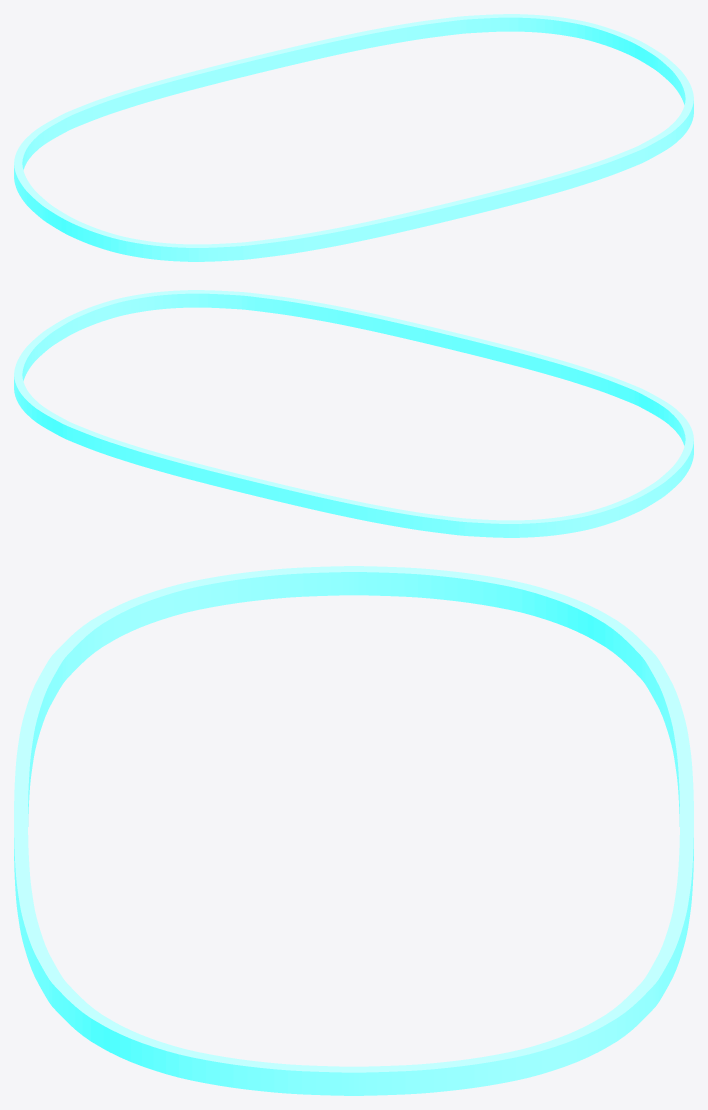
The model's file is mesh_Galaxy_WallCollider.fbx.
The picture shows the model from 3 angles, top to bottom: view 1: azimuth 30°, elevation 25°; view 2: azimuth 150°, elevation 25°; view 3: azimuth 270°, elevation 25°; orthographic projection. The views are drawn at different scales.
Visible parts, largest first — view 1: mesh_SplineWall__Top, mesh_SplineWall__Bottom, mesh_SplineWall__Right, mesh_SplineWall__Left, mesh_SplineWall_HD, mesh_SplineWall__BG, mesh_SplineWall_HG, mesh_SplineWall__BD; view 2: mesh_SplineWall__Bottom, mesh_SplineWall__Top, mesh_SplineWall__Right, mesh_SplineWall__Left, mesh_SplineWall__BD, mesh_SplineWall_HG, mesh_SplineWall__BG, mesh_SplineWall_HD; view 3: mesh_SplineWall__Left, mesh_SplineWall__Right, mesh_SplineWall__Top, mesh_SplineWall__Bottom, mesh_SplineWall_HG, mesh_SplineWall__BG, mesh_SplineWall_HD, mesh_SplineWall__BD.
Part boxes in pixels (x1=…): mesh_SplineWall__Top: x1=238, y1=144, x2=647, y2=260; mesh_SplineWall__Bottom: x1=60, y1=15, x2=470, y2=131; mesh_SplineWall__Right: x1=14, y1=138, x2=177, y2=261; mesh_SplineWall__Left: x1=530, y1=14, x2=693, y2=137; mesh_SplineWall_HD: x1=176, y1=242, x2=238, y2=261; mesh_SplineWall__BG: x1=469, y1=14, x2=531, y2=33; mesh_SplineWall_HG: x1=641, y1=123, x2=681, y2=159; mesh_SplineWall__BD: x1=27, y1=115, x2=66, y2=152; mesh_SplineWall__Bottom: x1=60, y1=420, x2=469, y2=536; mesh_SplineWall__Top: x1=237, y1=291, x2=647, y2=407; mesh_SplineWall__Right: x1=530, y1=414, x2=693, y2=537; mesh_SplineWall__Left: x1=14, y1=290, x2=177, y2=413; mesh_SplineWall__BD: x1=469, y1=518, x2=531, y2=537; mesh_SplineWall_HG: x1=176, y1=290, x2=238, y2=309; mesh_SplineWall__BG: x1=26, y1=399, x2=66, y2=435; mesh_SplineWall_HD: x1=641, y1=391, x2=680, y2=428; mesh_SplineWall__Left: x1=103, y1=1022, x2=604, y2=1095; mesh_SplineWall__Right: x1=104, y1=566, x2=603, y2=639; mesh_SplineWall__Top: x1=14, y1=652, x2=67, y2=1008; mesh_SplineWall__Bottom: x1=640, y1=652, x2=693, y2=1008; mesh_SplineWall_HG: x1=55, y1=984, x2=113, y2=1048; mesh_SplineWall__BG: x1=594, y1=984, x2=652, y2=1048; mesh_SplineWall_HD: x1=55, y1=613, x2=114, y2=677; mesh_SplineWall__BD: x1=593, y1=613, x2=652, y2=677.
Size of the model in its own units: 52.36 by 1.12 by 29.7.
